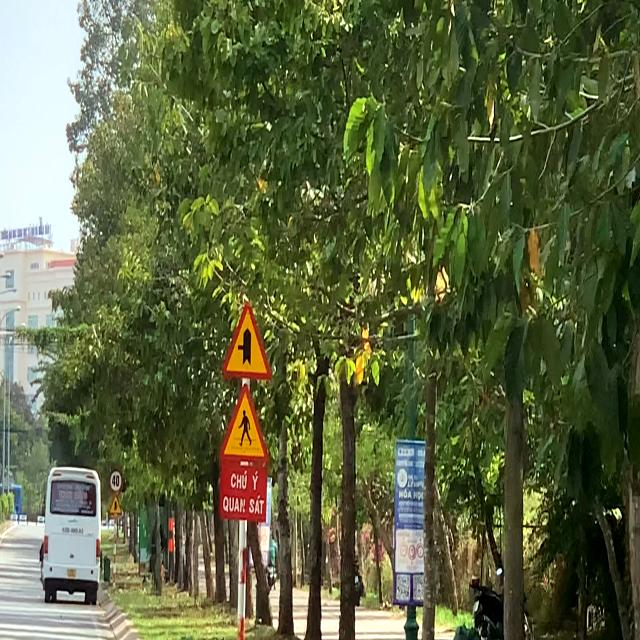W.207c: (222, 295, 276, 380)
W.224: (220, 380, 270, 462)
